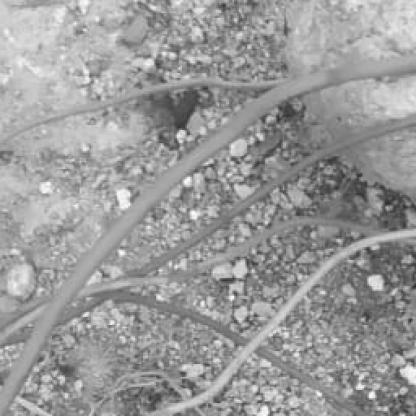PVC: (1, 1, 414, 413)
